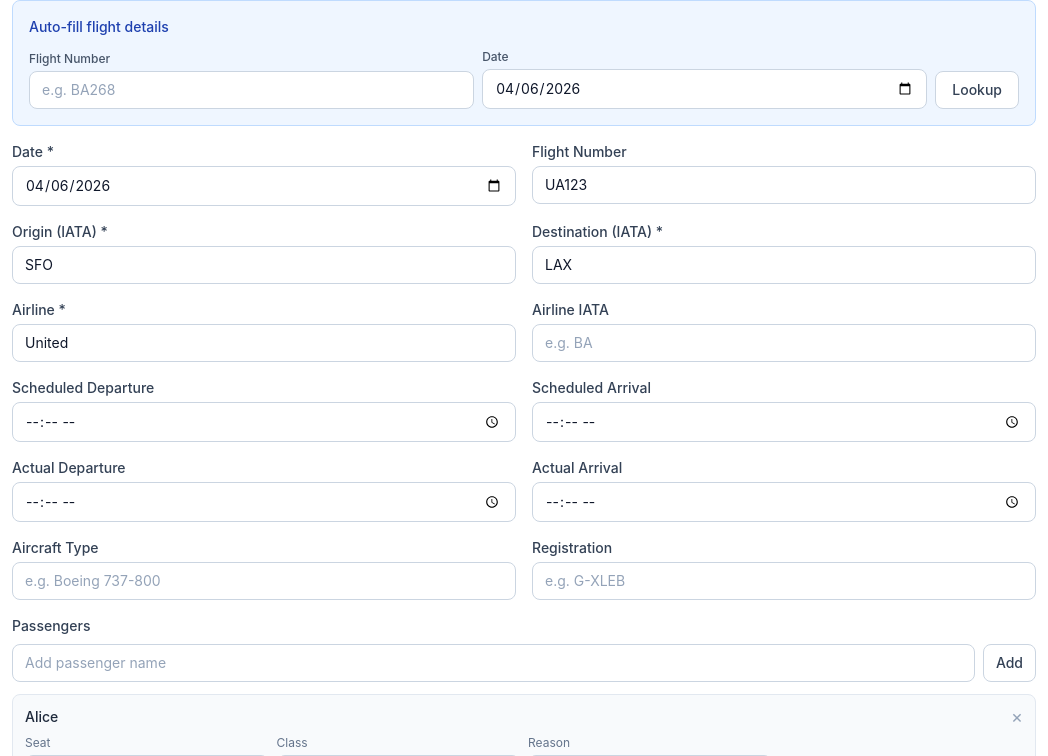
FlightForm › removes a passenger card when the remove button is clicked
expect the text "Alice" is shown: met, box [25,707,58,727]
Click the button named "remove alice" at {"x": 1017, "y": 717}, box [1011,708,1023,726]
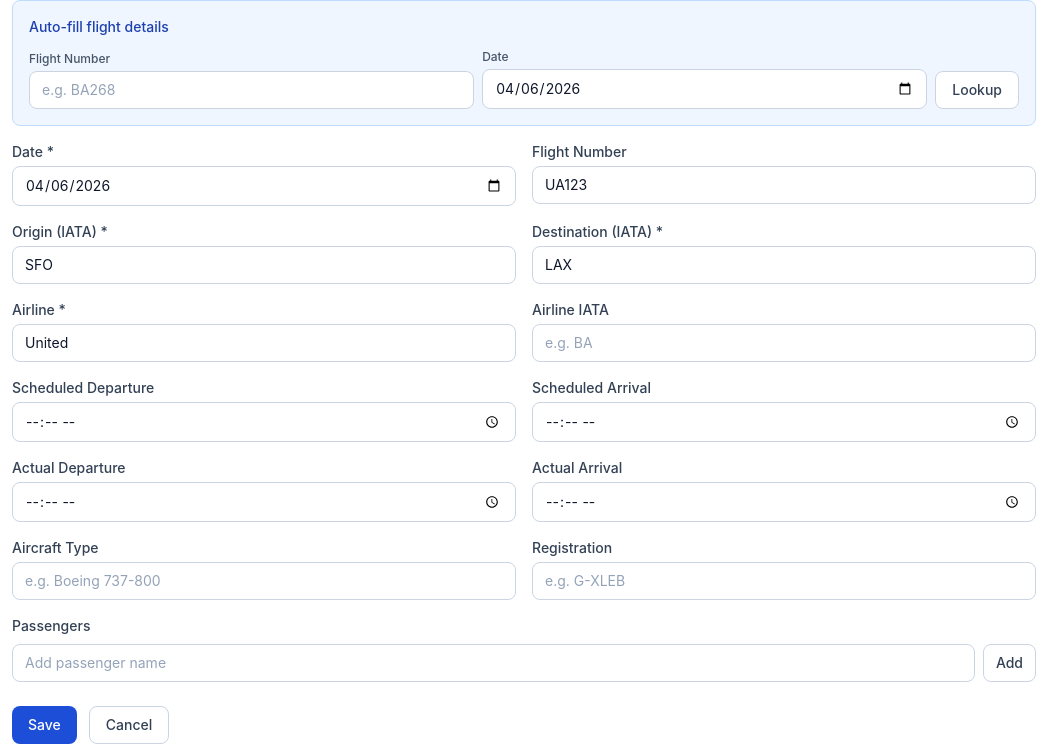
expect the text "Alice" is gone: met
